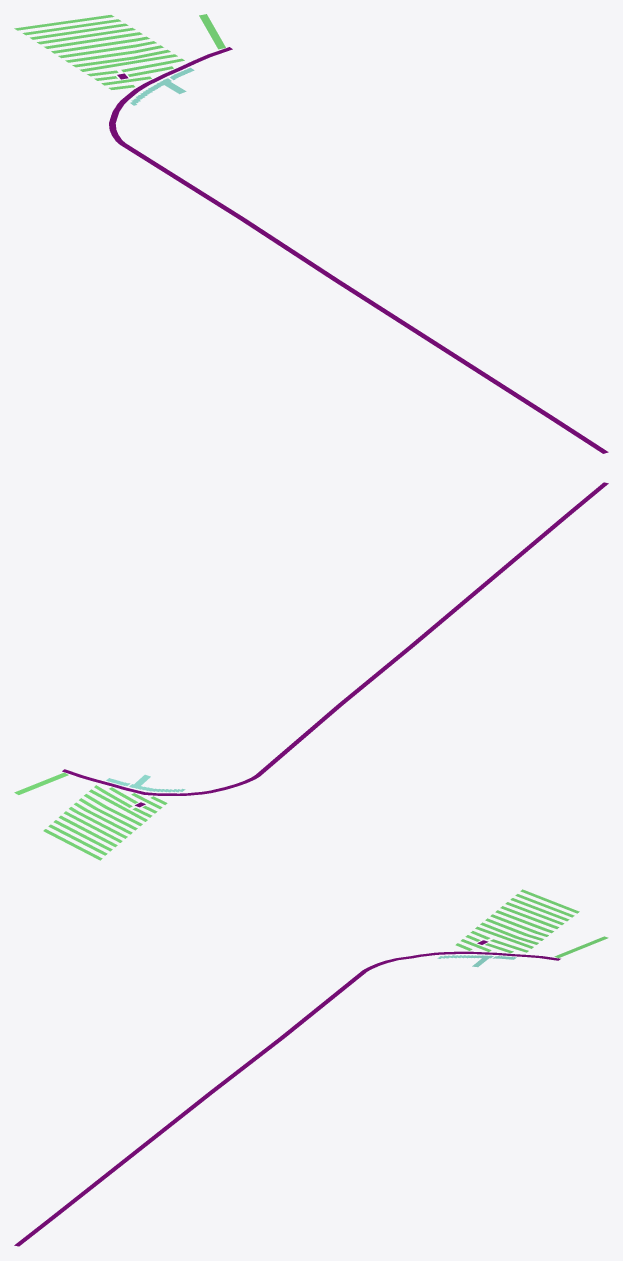
File: data101.glb
The picture shows the model from 3 angles, top to bottom: view 1: azimuth 30°, elevation 25°; view 2: azimuth 150°, elevation 25°; view 3: azimuth 330°, elevation 25°; orthographic projection. The views are drawn at different scales.
Bounding box in the file's own units: 15.96 × 1.01 × 86.97.
